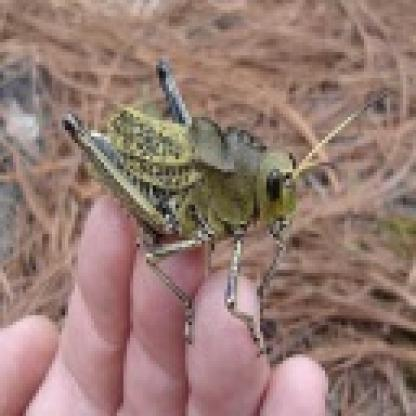grasshopper: (60, 59, 334, 325)
